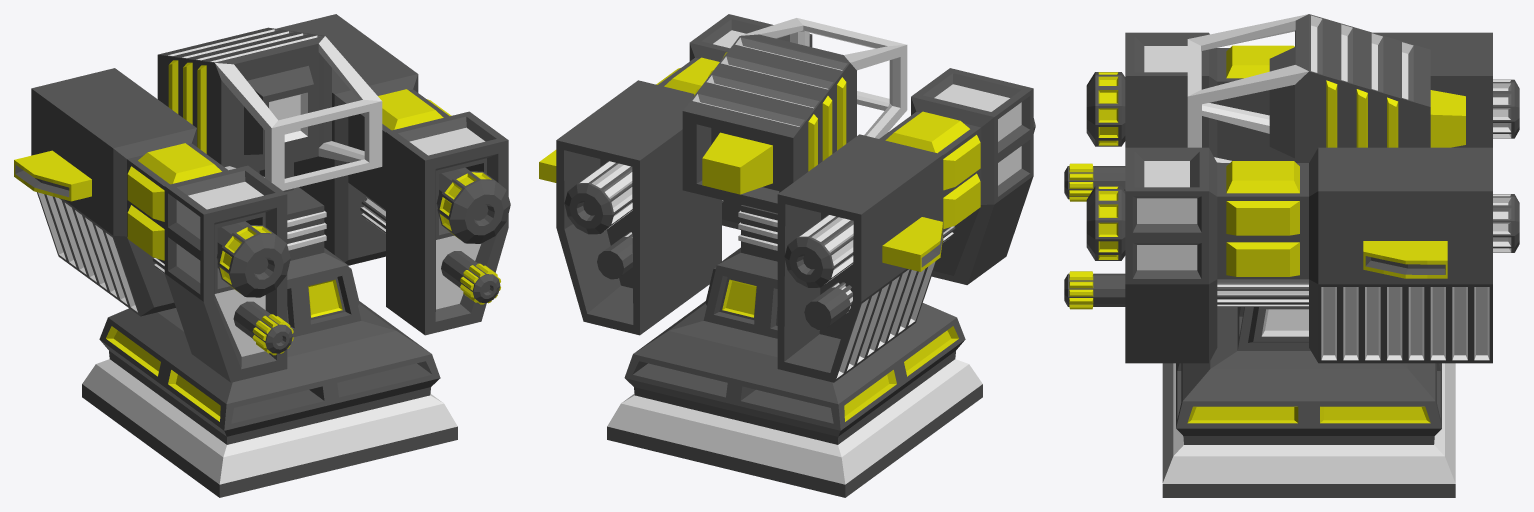
File: tower6_2.fbx
3 renders of one model, left to right at view 1: azimuth 30°, elevation 25°; view 2: azimuth 150°, elevation 25°; view 3: azimuth 270°, elevation 25°, orthographic. The views are drawn at different scales.
Visible parts, largest first — view 1: polySurface73; view 2: polySurface73; view 3: polySurface73.
Boxes of the visible parts, box(x1,y1,x2,y2) form: polySurface73: box(14, 14, 510, 497); polySurface73: box(539, 14, 1035, 497); polySurface73: box(1064, 14, 1519, 497).
Size of the model in its own units: 0.7086 by 0.6551 by 0.687.
